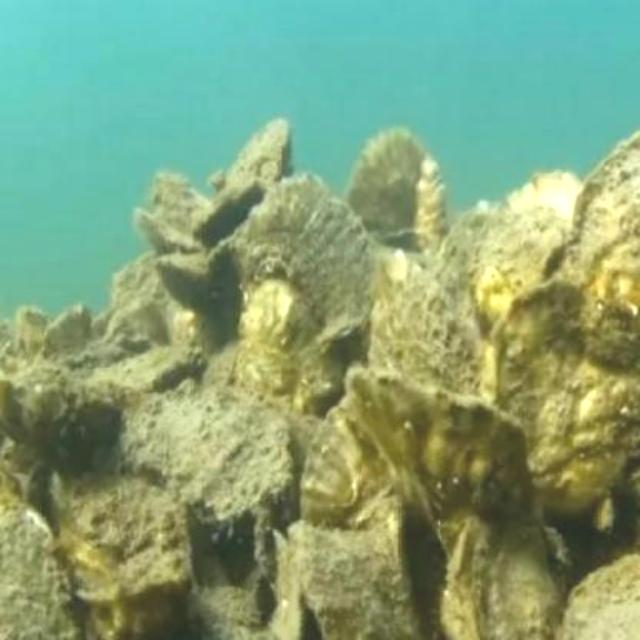Oyster-Closed: (354, 361, 559, 640), (482, 281, 640, 534), (234, 182, 376, 356), (120, 386, 293, 520), (369, 245, 495, 397), (56, 470, 191, 604), (300, 505, 418, 640), (303, 404, 392, 546), (571, 139, 640, 318), (0, 490, 79, 640), (481, 207, 578, 316), (343, 130, 435, 241), (550, 554, 640, 640), (439, 207, 510, 316), (194, 180, 265, 239), (226, 119, 291, 182), (509, 171, 584, 224), (151, 174, 207, 240), (137, 211, 202, 259), (160, 254, 211, 312), (102, 302, 169, 343), (45, 305, 92, 351)
